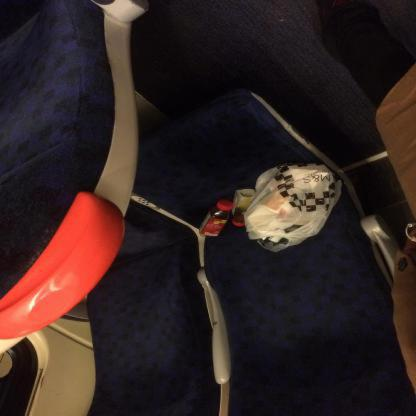Bottle: (217, 200, 233, 210)
Bottle cap: (198, 199, 233, 237), (231, 187, 256, 226)
Plastic bag - wrapper: (244, 163, 342, 252)
